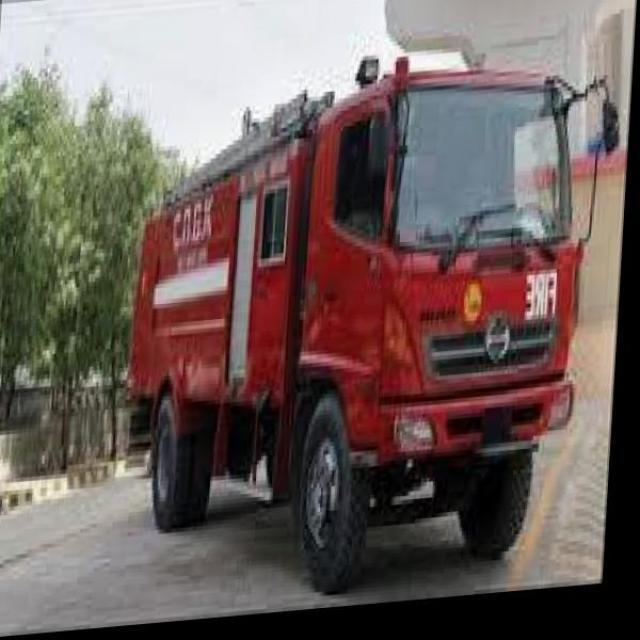emergency: (124, 46, 616, 594)
